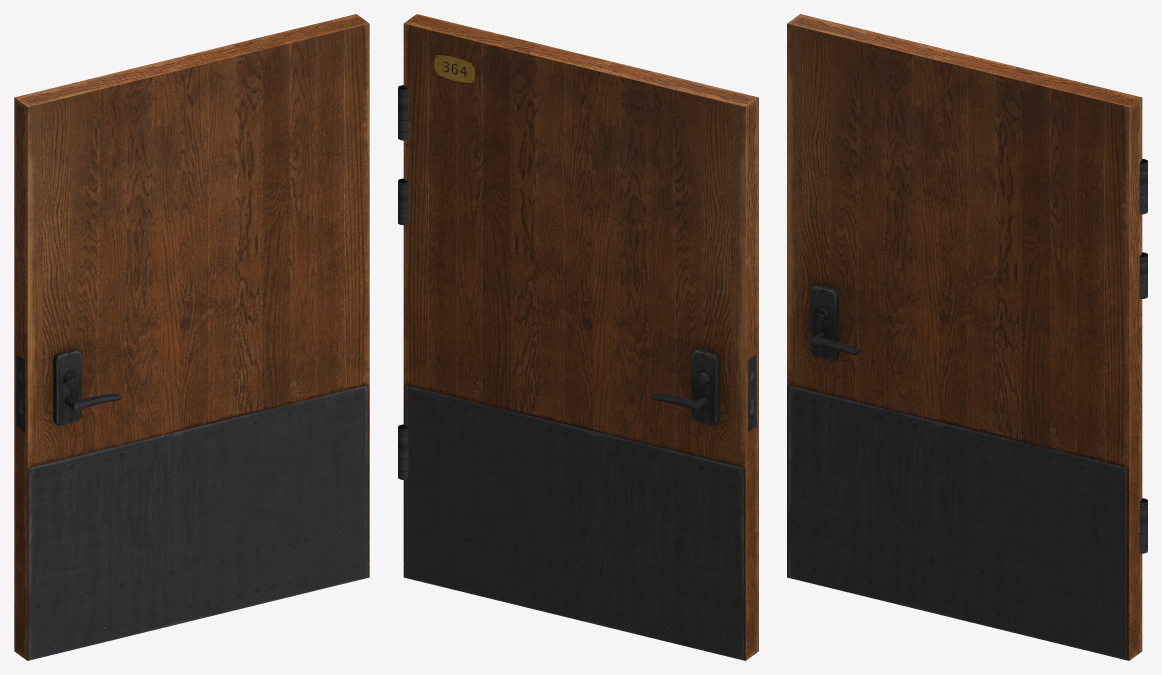
Rendered from swingdoor_scanroom_corridor_364.dae.
3 views of the same model, side by side, from view 1: azimuth 30°, elevation 25°; view 2: azimuth 150°, elevation 25°; view 3: azimuth 330°, elevation 25° (orthographic).
Parts seen in each view (by area): view 1: polySurface217, handle; view 2: polySurface217, pPlane16, handle; view 3: polySurface217.
Part boxes in pixels (left/top/right/bottom): polySurface217: left=14, top=14, right=369, bottom=660; handle: left=65, top=393, right=121, bottom=411; polySurface217: left=398, top=14, right=758, bottom=660; pPlane16: left=434, top=54, right=475, bottom=83; handle: left=651, top=393, right=708, bottom=411; polySurface217: left=787, top=14, right=1147, bottom=660.
Size of the model in its own units: 177 by 270 by 33.73.
